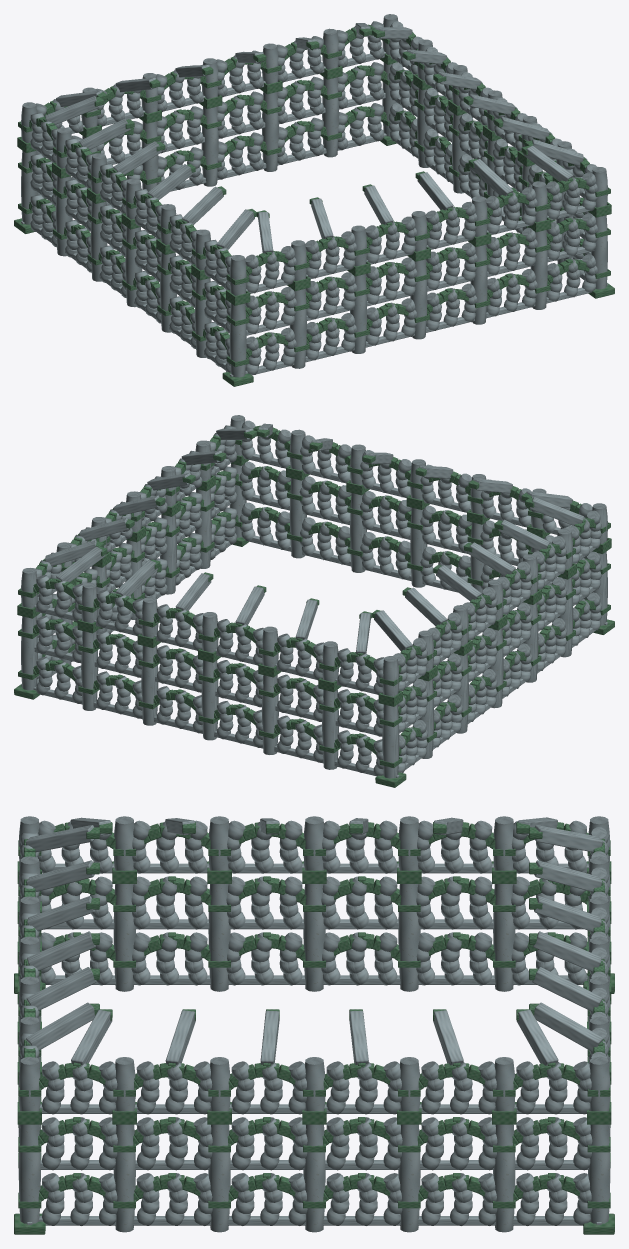
3 renders of one model, top to bottom at view 1: azimuth 30°, elevation 25°; view 2: azimuth 150°, elevation 25°; view 3: azimuth 270°, elevation 25°, orthographic. The views are drawn at different scales.
Visible parts, largest first — view 1: Tier 0 side 0 post 0, Tier 0 side 2 post 3, Tier 0 side 2 post 2, Tier 0 side 2 post 1, Tier 0 side 0 post 4, Tier 0 side 0 post 5, Tier 0 side 0 post 1, Tier 0 side 0 post 3, Tier 0 side 0 post 2, Tier 0 side 1 post 0, Tier 0 side 3 post 2, Tier 0 side 3 post 3 (+24 smaller); view 2: Tier 0 side 3 post 0, Tier 0 side 2 post 2, Tier 0 side 2 post 3, Tier 0 side 2 post 1, Tier 0 side 2 post 5, Tier 0 side 2 post 4, Tier 0 side 2 post 0, Tier 0 side 0 post 3, Tier 0 side 0 post 4, Tier 0 side 0 post 5, Tier 0 side 1 post 1, Tier 0 side 1 post 2 (+26 smaller); view 3: Tier 0 side 1 post 2, Tier 0 side 1 post 3, Tier 0 side 1 post 1, Tier 0 side 1 post 5, Tier 0 side 3 post 2, Tier 0 side 3 post 3, Tier 0 side 1 post 4, Tier 0 side 3 post 4, Tier 0 side 3 post 1, Tier 0 side 3 post 5, Tier 0 side 1 post 0, Tier 0 side 2 post 0 (+30 smaller).
Boxes of the visible parts, x1=… form: Tier 0 side 0 post 0: x1=229, y1=303, x2=246, y2=377; Tier 0 side 2 post 3: x1=201, y1=106, x2=218, y2=186; Tier 0 side 2 post 2: x1=262, y1=92, x2=278, y2=171; Tier 0 side 2 post 1: x1=322, y1=77, x2=339, y2=157; Tier 0 side 0 post 4: x1=470, y1=244, x2=487, y2=324; Tier 0 side 0 post 5: x1=530, y1=230, x2=547, y2=309; Tier 0 side 0 post 1: x1=289, y1=288, x2=306, y2=368; Tier 0 side 0 post 3: x1=410, y1=259, x2=427, y2=339; Tier 0 side 0 post 2: x1=350, y1=274, x2=366, y2=353; Tier 0 side 1 post 0: x1=591, y1=215, x2=607, y2=289; Tier 0 side 3 post 2: x1=90, y1=201, x2=107, y2=281; Tier 0 side 3 post 3: x1=125, y1=227, x2=142, y2=307; Tier 0 side 3 post 0: x1=382, y1=704, x2=399, y2=778; Tier 0 side 2 post 2: x1=141, y1=645, x2=158, y2=725; Tier 0 side 2 post 3: x1=201, y1=660, x2=218, y2=740; Tier 0 side 2 post 1: x1=81, y1=631, x2=98, y2=710; Tier 0 side 2 post 5: x1=322, y1=689, x2=339, y2=769; Tier 0 side 2 post 4: x1=261, y1=675, x2=278, y2=754; Tier 0 side 2 post 0: x1=21, y1=616, x2=37, y2=690; Tier 0 side 0 post 3: x1=410, y1=507, x2=427, y2=587; Tier 0 side 0 post 4: x1=350, y1=493, x2=366, y2=572; Tier 0 side 0 post 5: x1=289, y1=478, x2=306, y2=558; Tier 0 side 1 post 1: x1=195, y1=489, x2=211, y2=568; Tier 0 side 1 post 2: x1=160, y1=514, x2=176, y2=594; Tier 0 side 1 post 2: x1=208, y1=1124, x2=230, y2=1232; Tier 0 side 1 post 3: x1=303, y1=1124, x2=325, y2=1232; Tier 0 side 1 post 1: x1=113, y1=1124, x2=135, y2=1232; Tier 0 side 1 post 5: x1=493, y1=1124, x2=515, y2=1232; Tier 0 side 3 post 2: x1=398, y1=884, x2=420, y2=991; Tier 0 side 3 post 3: x1=303, y1=884, x2=325, y2=991; Tier 0 side 1 post 4: x1=398, y1=1124, x2=420, y2=1232; Tier 0 side 3 post 4: x1=208, y1=884, x2=230, y2=991; Tier 0 side 3 post 1: x1=493, y1=884, x2=515, y2=991; Tier 0 side 3 post 5: x1=113, y1=884, x2=135, y2=991; Tier 0 side 1 post 0: x1=18, y1=1124, x2=40, y2=1223; Tier 0 side 2 post 0: x1=588, y1=1124, x2=610, y2=1223.
Size of the model in its own units: 2.85 by 1.01 by 2.85.
Materials: 2 (2 with a texture image).
